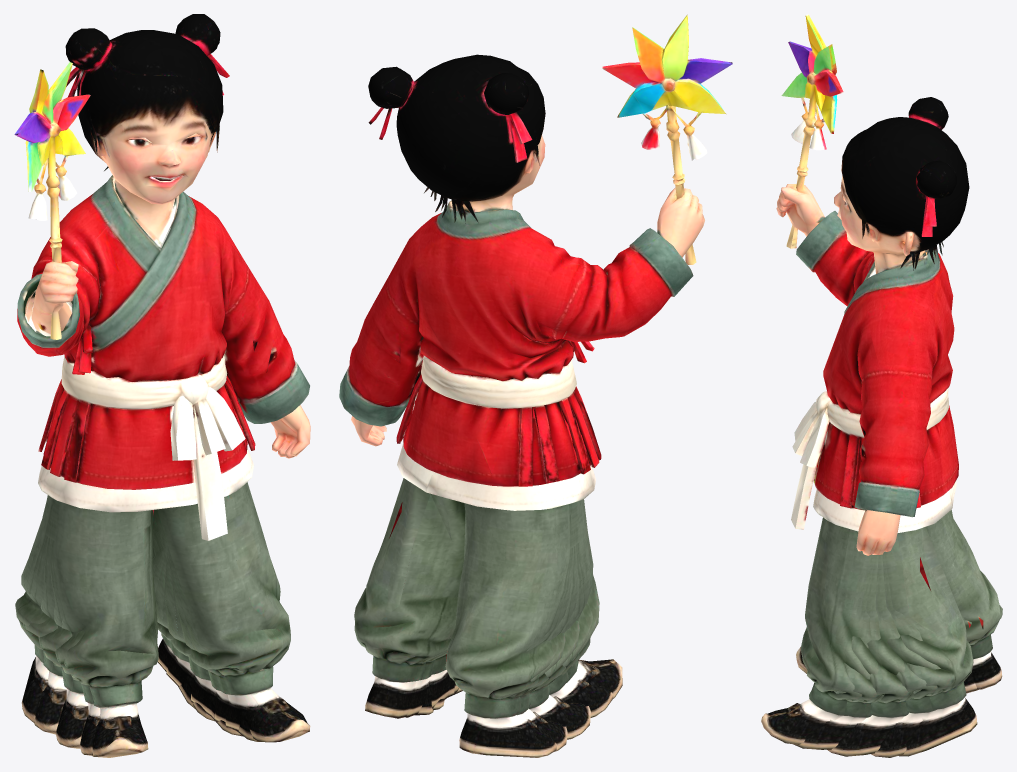
Rendered from p_child_walk.glb.
3 renders of one model, left to right at view 1: azimuth 30°, elevation 25°; view 2: azimuth 150°, elevation 25°; view 3: azimuth 270°, elevation 25°, orthographic. The views are drawn at different scales.
Parts seen in each view (by area): view 1: f0, f6, f2, f5, f1; view 2: f0, f6, f2, f1, f5; view 3: f0, f6, f2, f5, f1.
Boxes of the visible parts, x1,y1,x2,y2 form: f0: (14,14,310,748); f6: (15,425,310,742); f2: (42,434,296,757); f5: (23,425,310,741); f1: (50,491,235,755); f0: (339,14,732,739); f6: (366,425,583,757); f2: (354,425,622,718); f1: (357,426,613,717); f5: (384,438,574,751); f0: (776,14,969,756); f6: (761,481,1002,744); f2: (795,485,977,756); f5: (793,506,978,749); f1: (865,534,942,757).
Size of the model in its own units: 0.5479 by 1.11 by 0.3808.
1 material, 1 textured.
